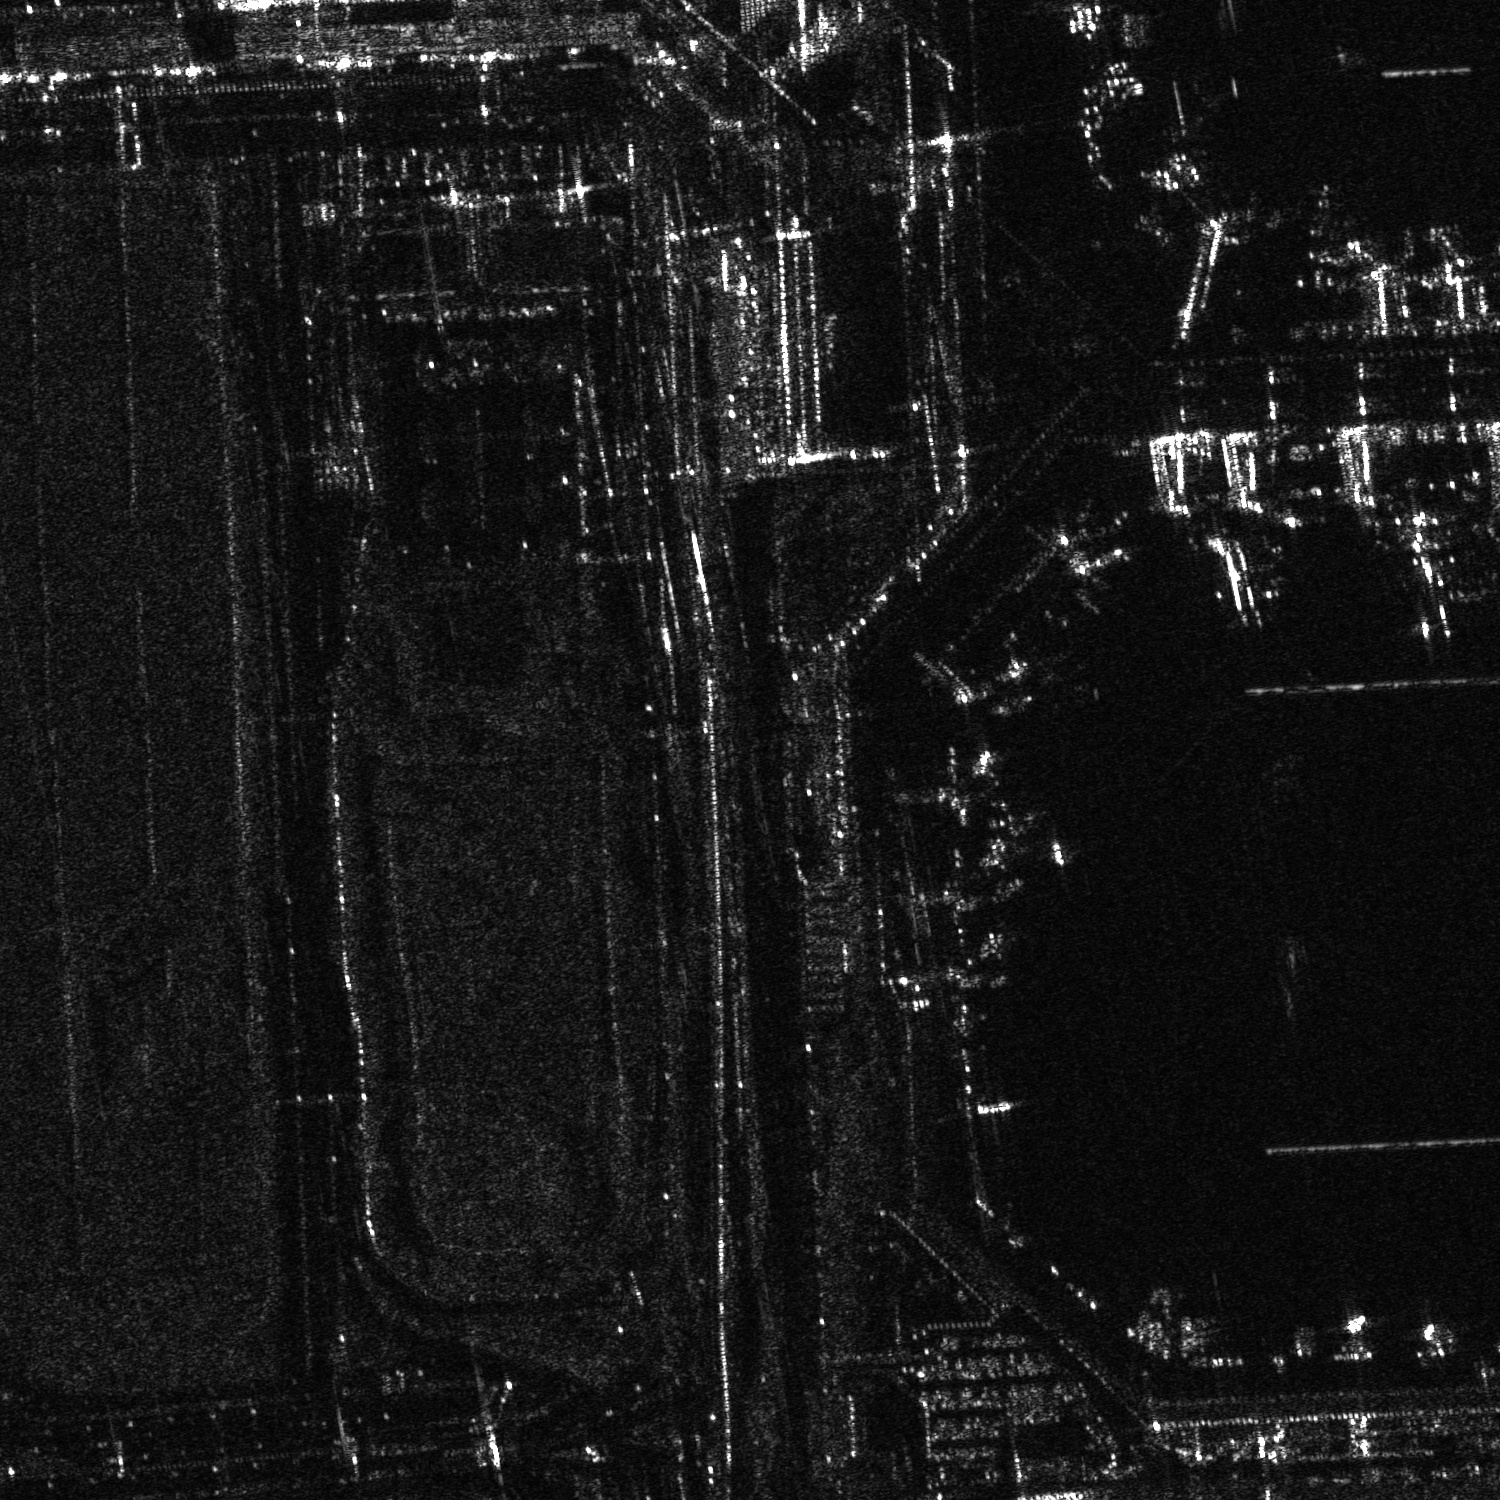Boeing737: (1199, 521, 1277, 626)
Boeing787: (1396, 527, 1479, 648)
